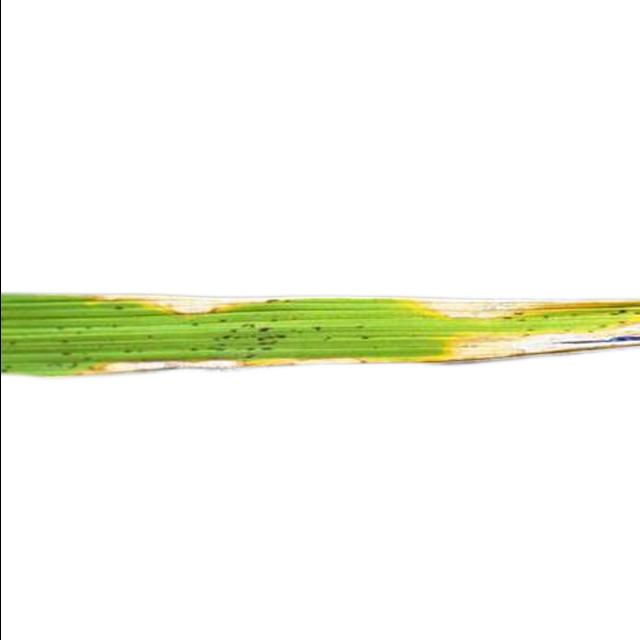Leaf scald: (0, 212, 640, 502)
